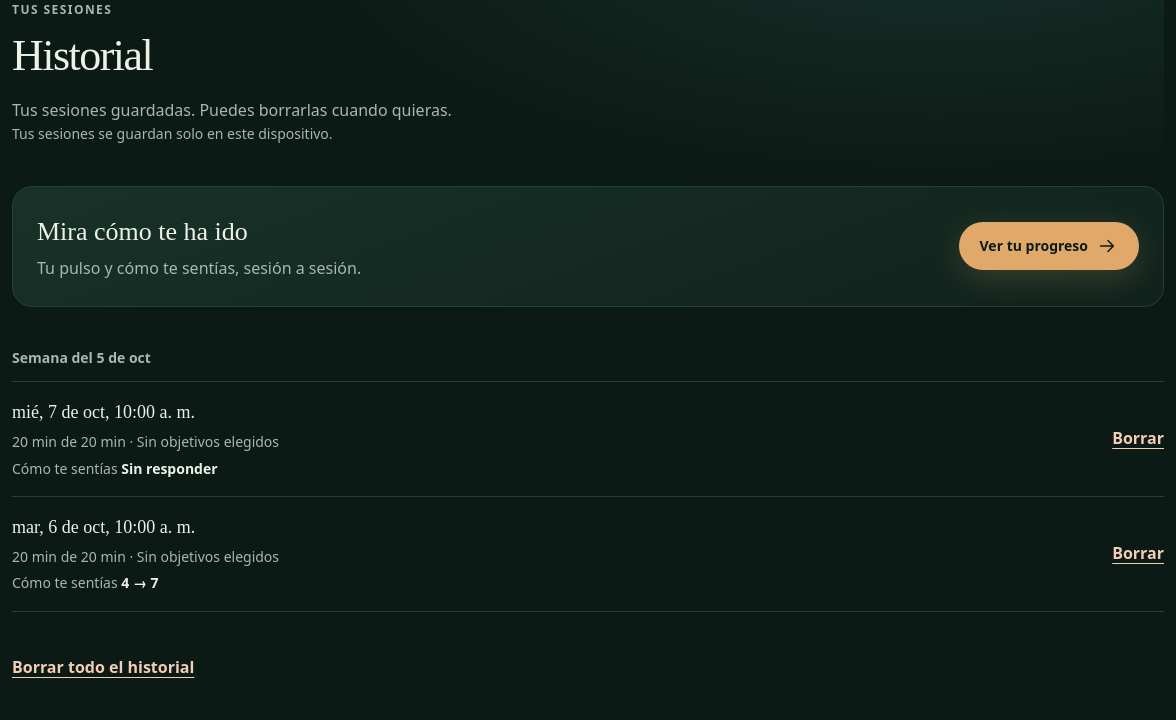
HistoryPage › clears the whole history after confirming
Click the button "Borrar todo el historial". click: (103, 668)
box: [12,644,194,692]
(page scrolled)
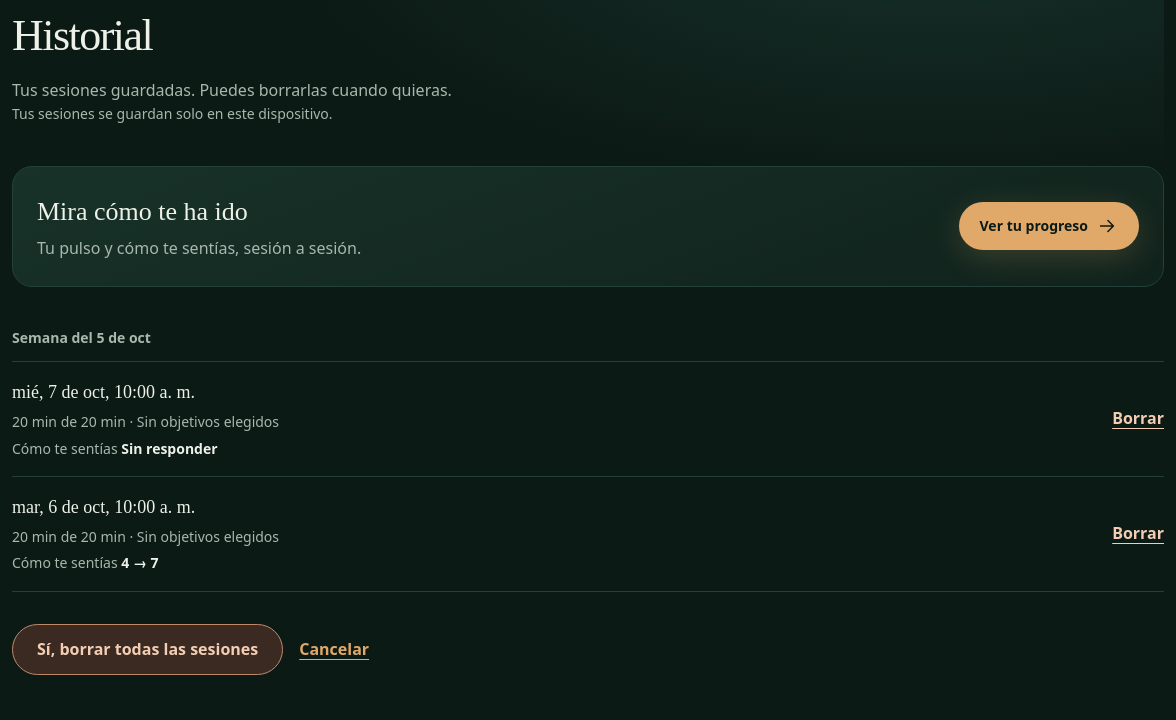
Click the button "Sí, borrar todas las sesiones". click: (148, 649)
box: [12,624,283,675]
(page scrolled)
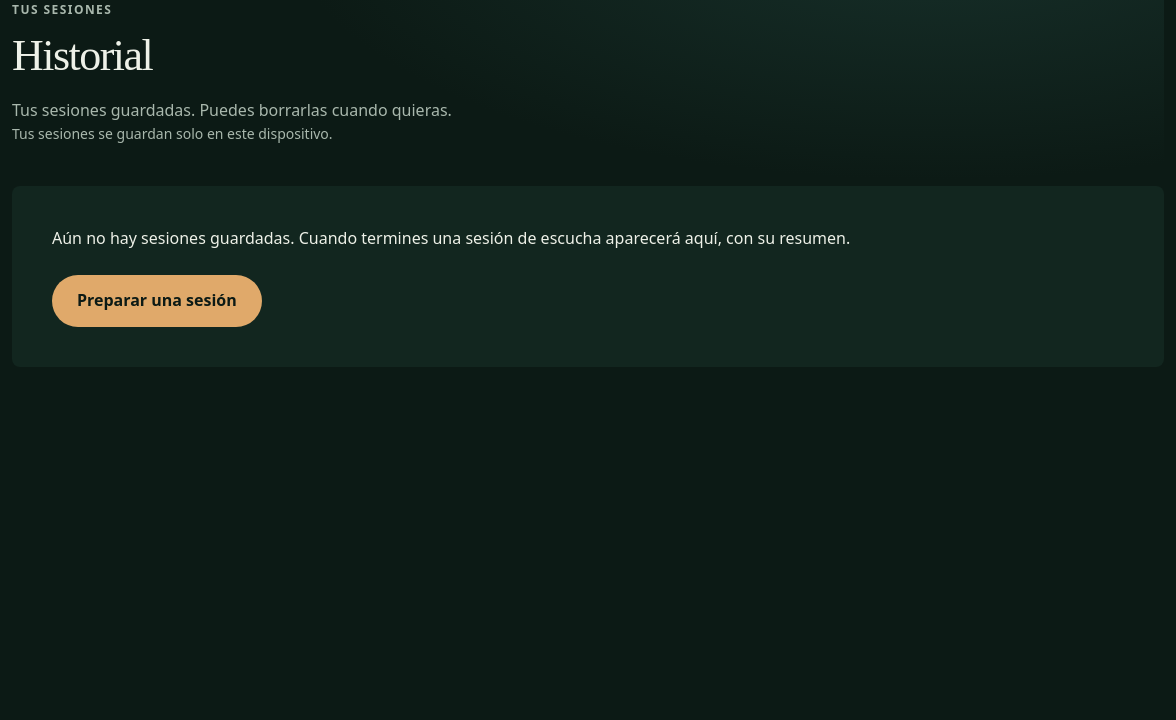
Check: the text "Aún no hay sesiones guardadas. Cuando termines una sesión de escucha aparecerá aquí, con su resumen." is shown, box [52,227,850,249]
